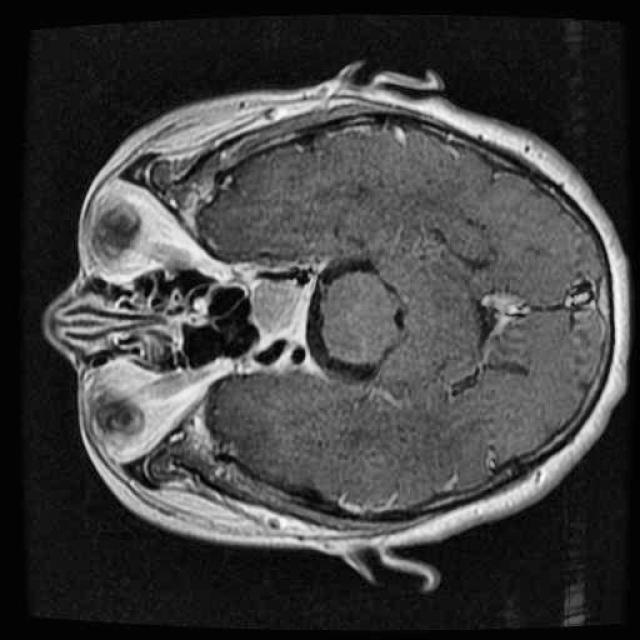Tumor: (243, 264, 306, 344)
